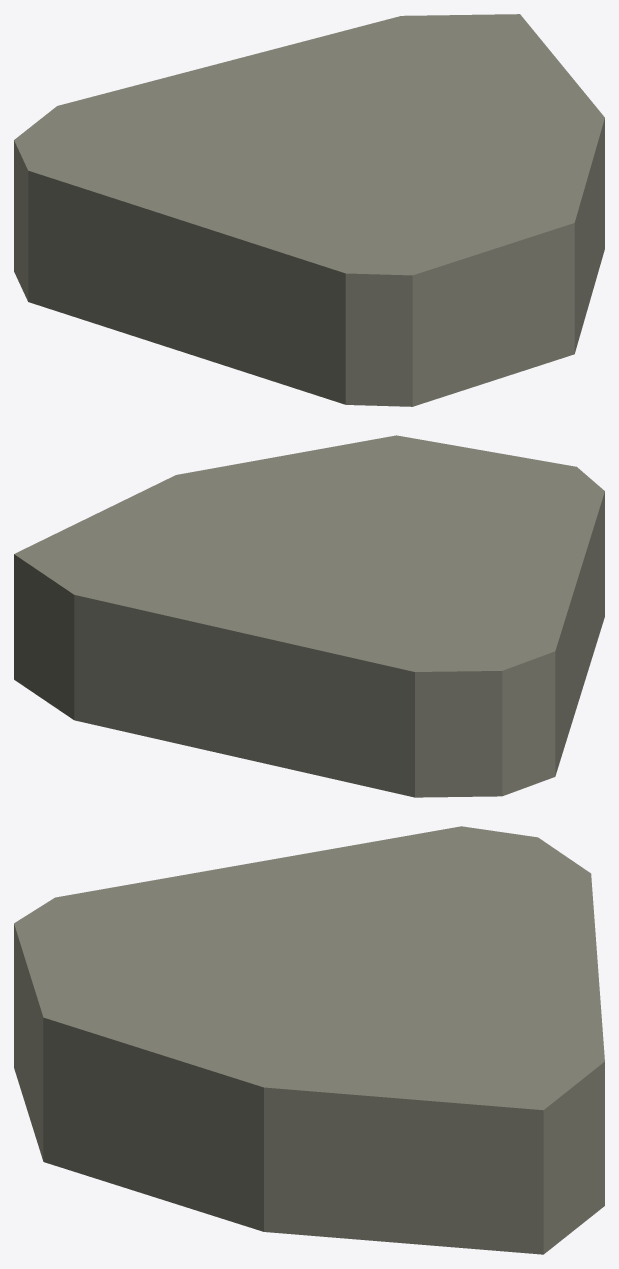
Rendered from Tile6.fbx.
3 renders of one model, top to bottom at view 1: azimuth 30°, elevation 25°; view 2: azimuth 150°, elevation 25°; view 3: azimuth 270°, elevation 25°, orthographic. The views are drawn at different scales.
Visible parts, largest first — view 1: Tile6; view 2: Tile6; view 3: Tile6.
Boxes of the visible parts, bbox=[...] form: Tile6: bbox=[14, 14, 604, 406]; Tile6: bbox=[14, 435, 604, 797]; Tile6: bbox=[14, 826, 604, 1254].
Size of the model in its own units: 0.1586 by 0.0377 by 0.1396.
